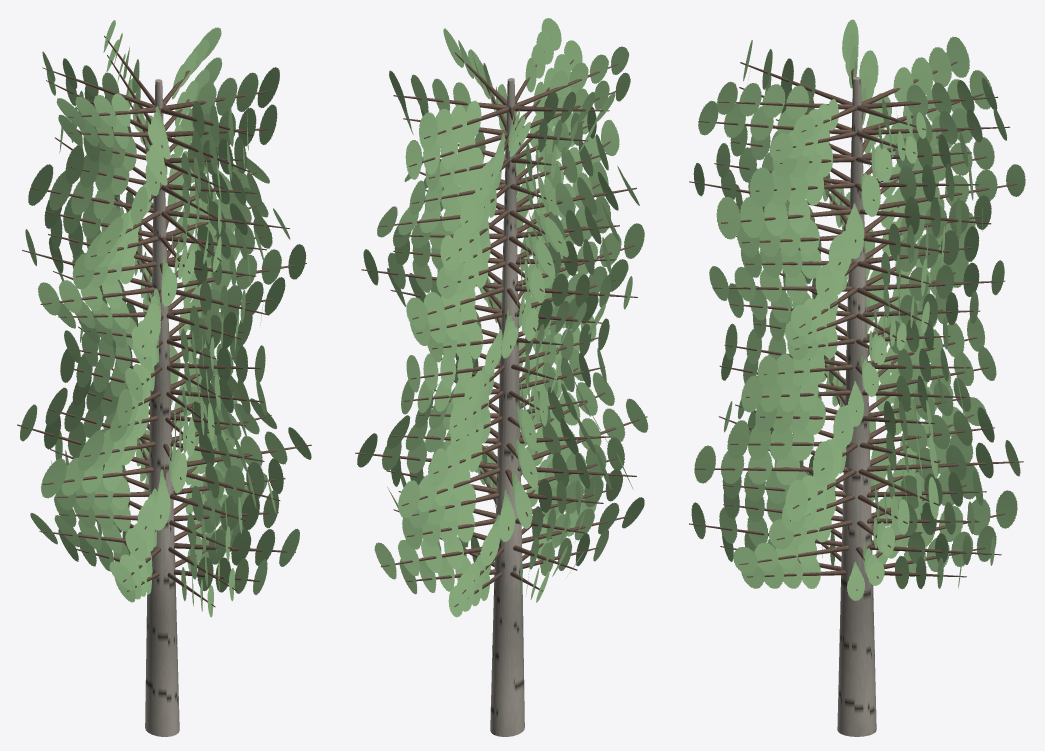
File: tree_maple02.glb
3 views of the same model, side by side, from view 1: azimuth 30°, elevation 25°; view 2: azimuth 150°, elevation 25°; view 3: azimuth 270°, elevation 25° (orthographic).
Visible parts, largest first — view 1: foliage, branches, trunk; view 2: foliage, branches, trunk; view 3: foliage, branches, trunk.
Boxes of the visible parts, x1,y1,x2,y2 form: foliage: (20,20,311,617); branches: (17,35,311,607); trunk: (145,79,179,736); foliage: (357,18,648,617); branches: (355,38,647,606); trunk: (490,78,524,736); foliage: (691,19,1025,600); branches: (689,61,1025,590); trunk: (837,77,876,736).
Bounding box in the file's own units: 4.32 × 10.82 × 5.11.
Materials: 3 (3 with a texture image).
